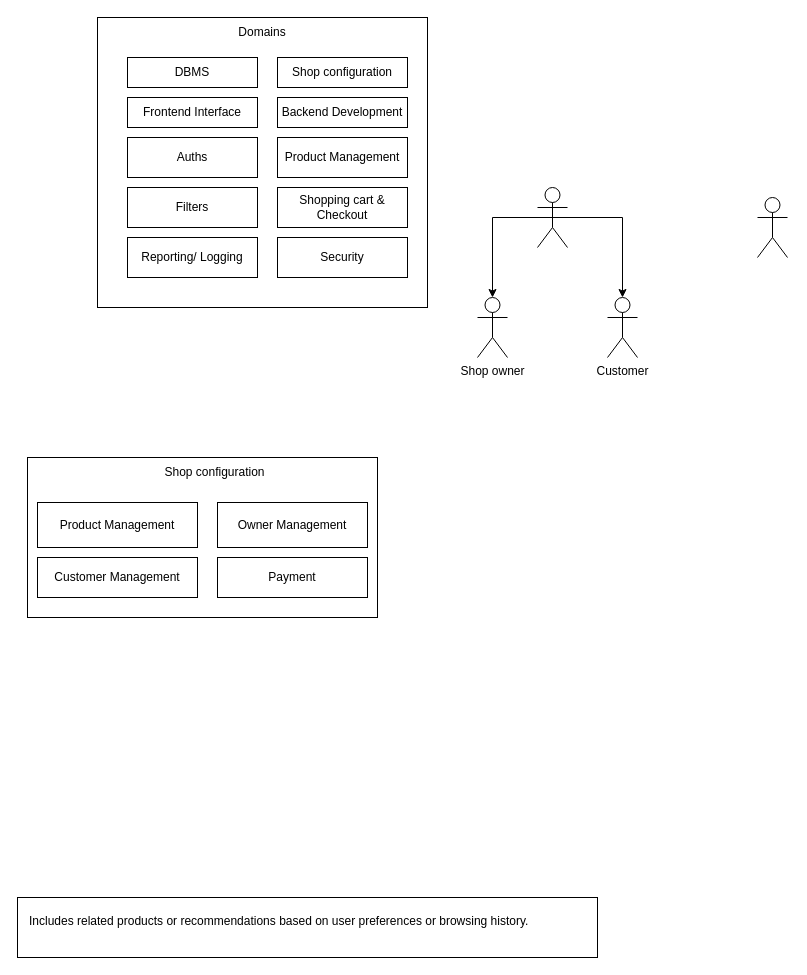
The diagram is 807 pixels wide and 975 high, and some of its shapes have lost their labels. The centre of each missing label's shape, as x and y in pixels:
Admin: the point at 772,227
User: the point at 552,217
